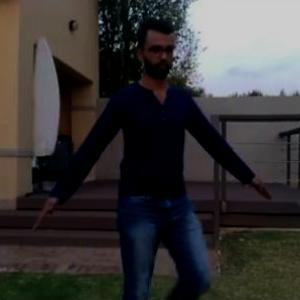land: (26, 27, 258, 298)
